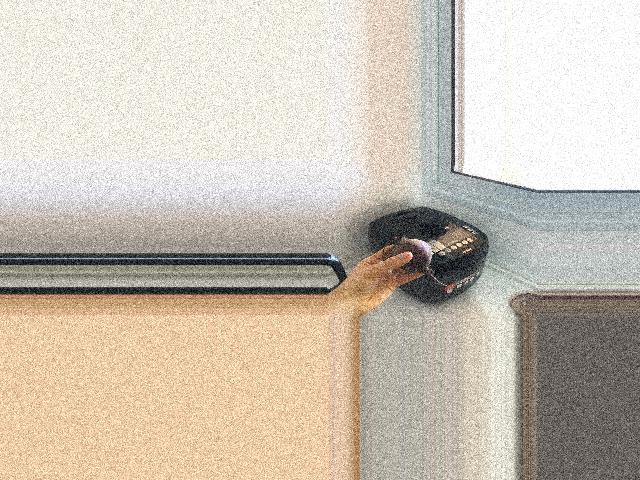beet: (383, 235, 447, 287)
